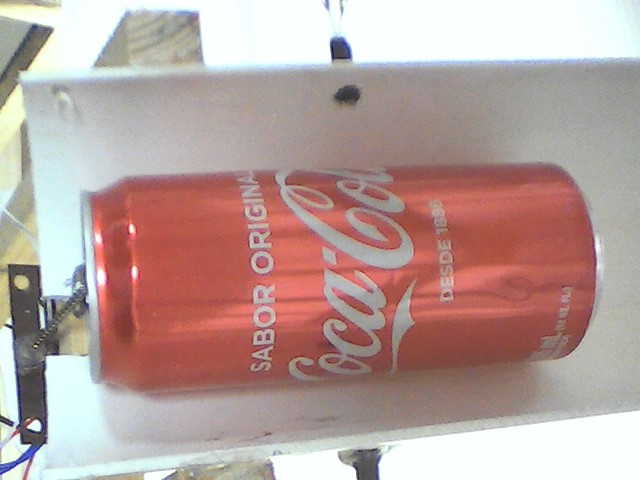lata: (75, 159, 605, 398)
